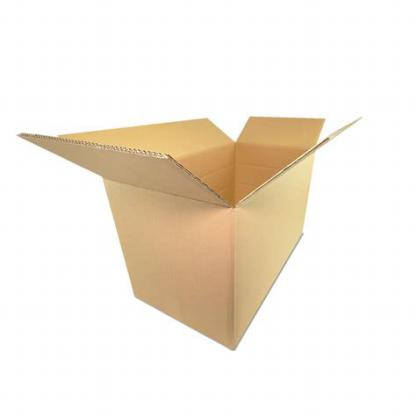box: (15, 109, 362, 350)
